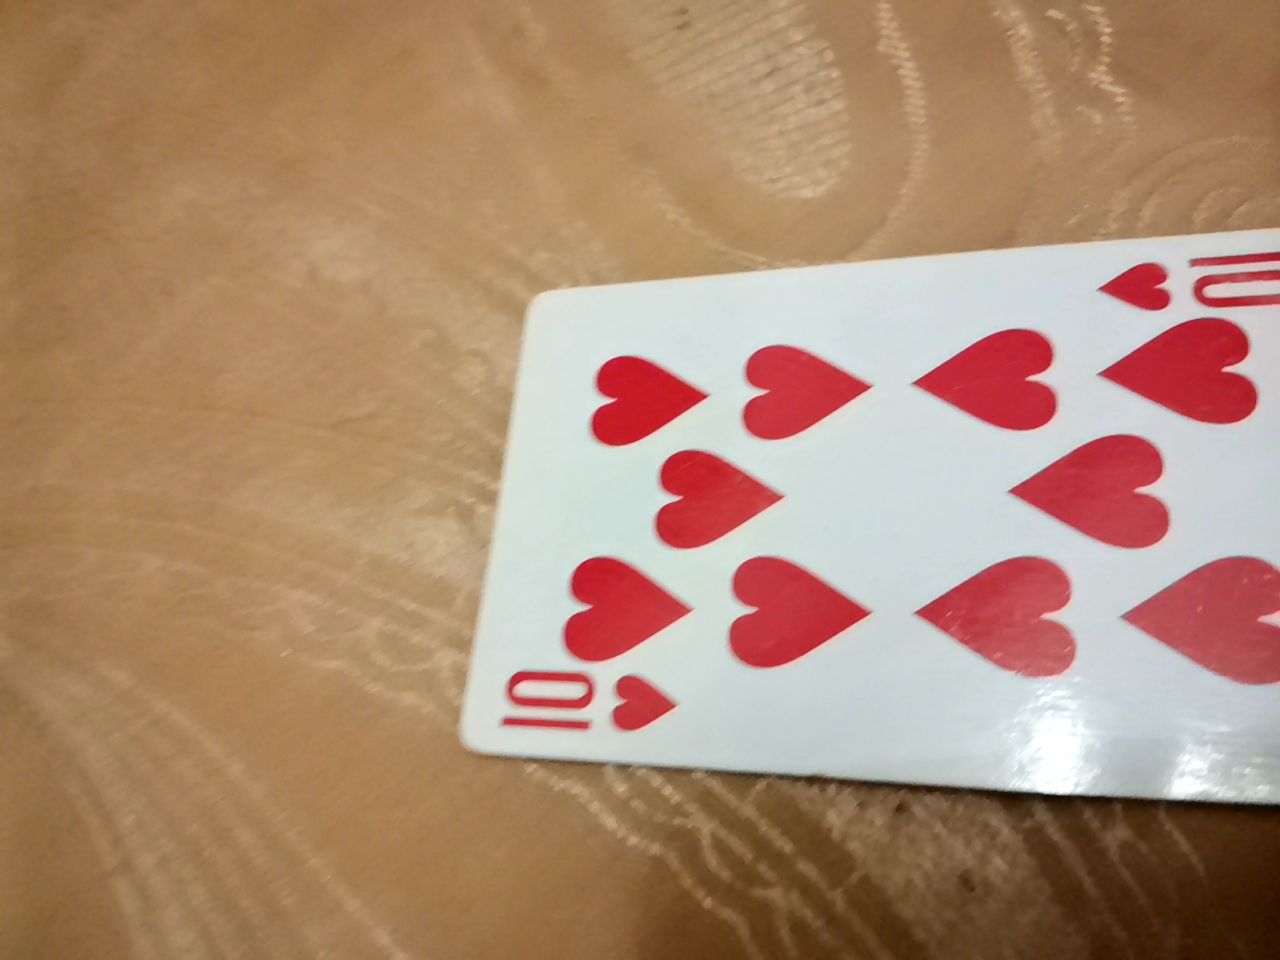hx 10: (457, 231, 1275, 796)
